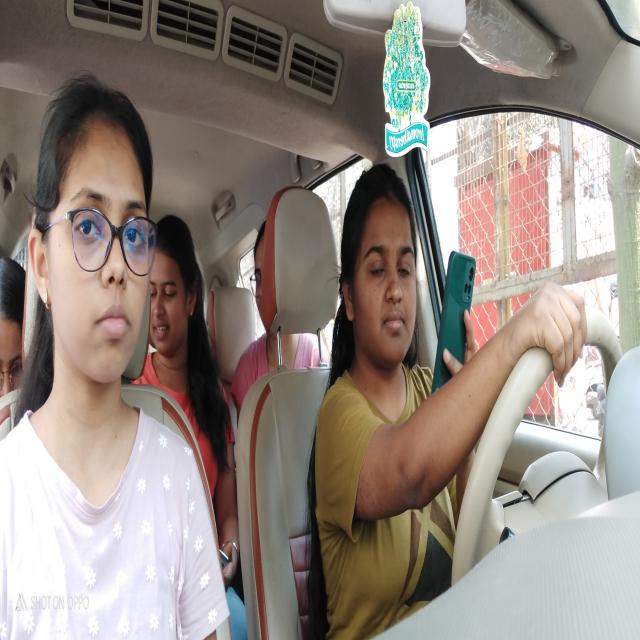mobile: (443, 243, 477, 378)
person: (29, 88, 160, 395), (348, 162, 418, 366), (151, 215, 195, 356), (4, 255, 30, 396), (250, 225, 266, 334)
